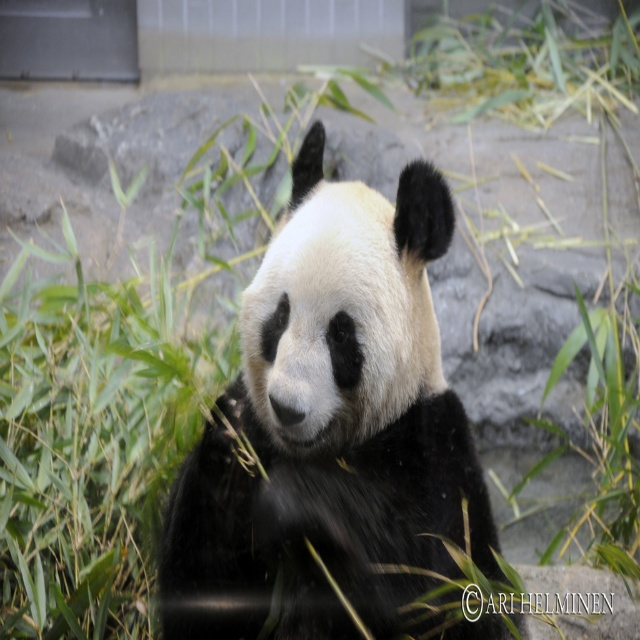Panda: (149, 122, 530, 639)
